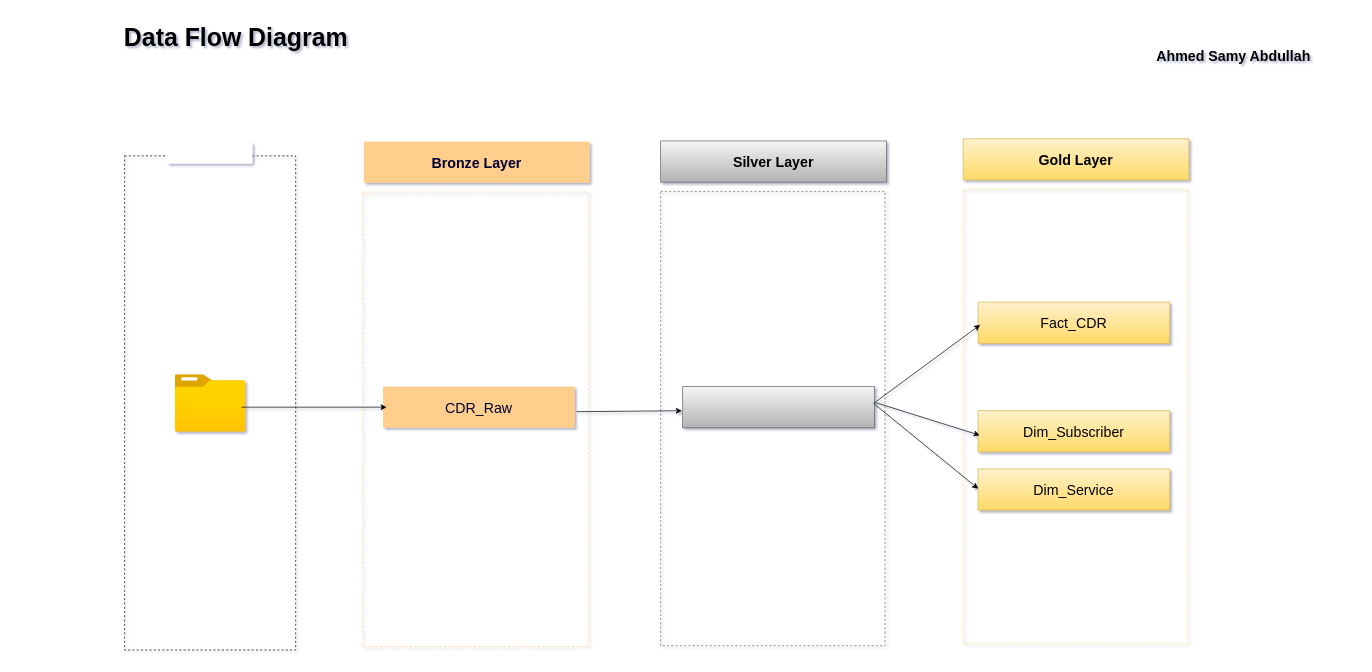
The diagram is 1372 pixels wide and 672 high, and some of its shapes have lost their labels. Each missing label, with the centre of its shape:
CDR_Cleaned: point 778,407
cdr_data_1M: point 210,403
Sources: point 209,152
